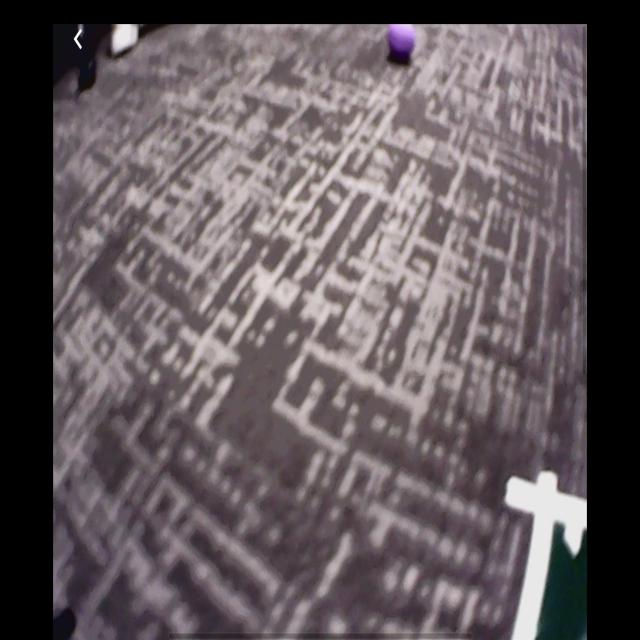ball: (387, 23, 417, 62)
